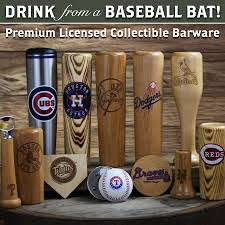baseball bat: (170, 50, 202, 165), (131, 51, 164, 160), (96, 52, 127, 168), (26, 48, 58, 157), (61, 51, 92, 163)
